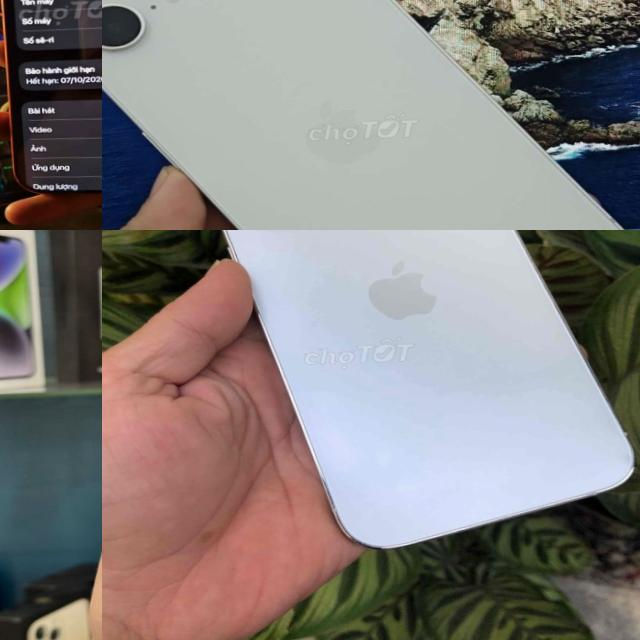gen_14: (185, 230, 640, 553)
gen_16: (102, 0, 624, 230)
gen_17: (0, 0, 102, 211)
